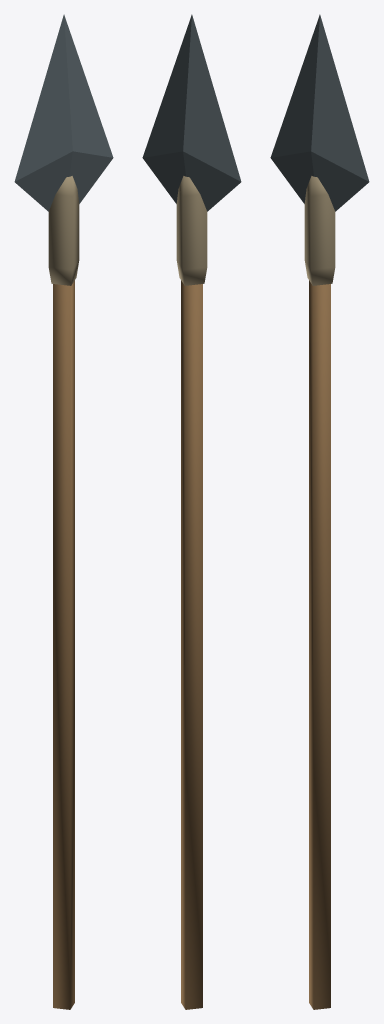
File: primitive_stone_spear_lod1.glb
3 views of the same model, side by side, from view 1: azimuth 30°, elevation 25°; view 2: azimuth 150°, elevation 25°; view 3: azimuth 330°, elevation 25° (orthographic).
Visible parts, largest first — view 1: primitive_stone_spear_lod1; view 2: primitive_stone_spear_lod1; view 3: primitive_stone_spear_lod1.
Part boxes in pixels (x1,y1,x2,y2): primitive_stone_spear_lod1: [14, 14, 113, 1009]; primitive_stone_spear_lod1: [142, 14, 241, 1009]; primitive_stone_spear_lod1: [270, 14, 369, 1009].
Size of the model in its own units: 0.206 by 1.97 by 0.064.
